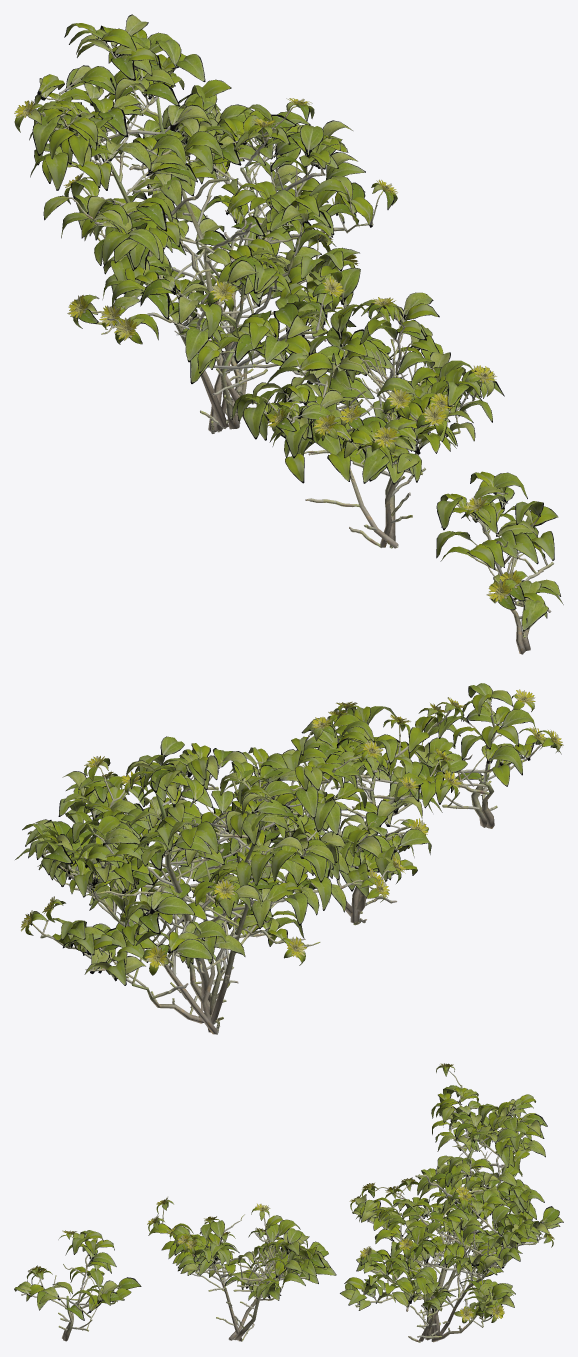
File: didelta_spinosa_2k.glb
3 views of the same model, one above another, from view 1: azimuth 30°, elevation 25°; view 2: azimuth 150°, elevation 25°; view 3: azimuth 270°, elevation 25° (orthographic). The views are drawn at different scales.
Visible parts, largest first — view 1: didelta_spinosa_large_LOD0; view 2: didelta_spinosa_large_LOD0; view 3: didelta_spinosa_large_LOD0.
Boxes of the visible parts, left/top/right/bottom form: didelta_spinosa_large_LOD0: left=14, top=14, right=563, bottom=654; didelta_spinosa_large_LOD0: left=15, top=683, right=563, bottom=1034; didelta_spinosa_large_LOD0: left=14, top=1063, right=563, bottom=1342.
Bounding box in the file's own units: 2.12 × 2.07 × 4.56.
Materials: 1 (1 with a texture image).
